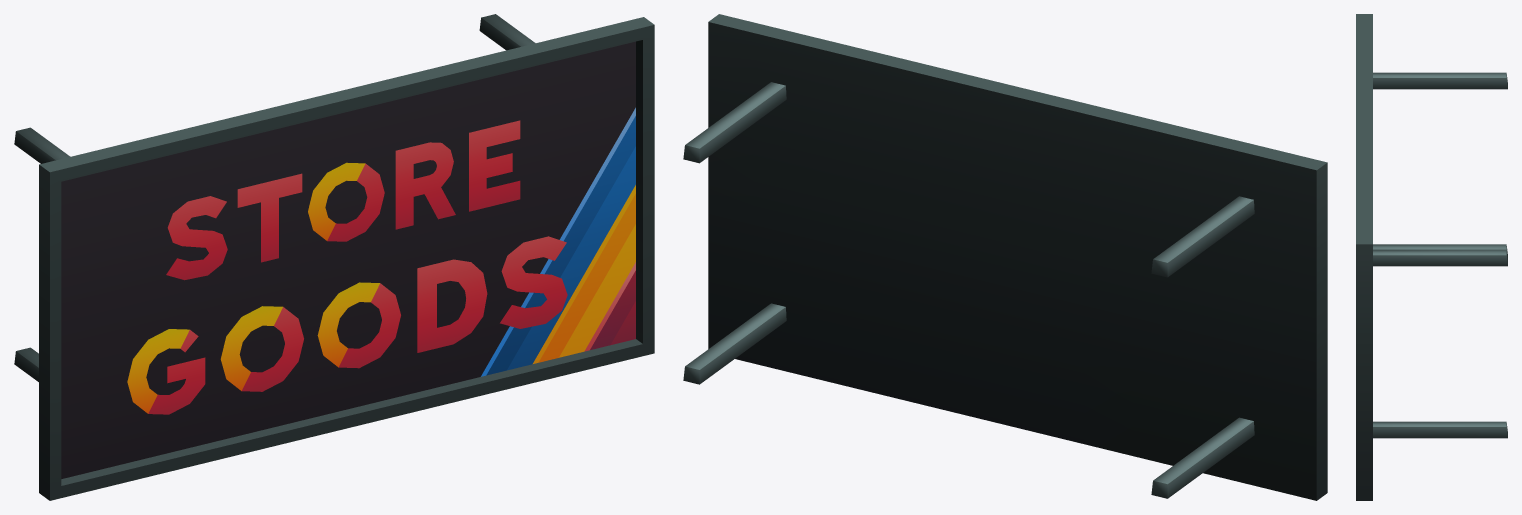
Rendered from Wall_Pannel_1B.fbx.
3 views of the same model, side by side, from view 1: azimuth 30°, elevation 25°; view 2: azimuth 150°, elevation 25°; view 3: azimuth 270°, elevation 25° (orthographic). The views are drawn at different scales.
Parts seen in each view (by area): view 1: Wall_Pannel_1B; view 2: Wall_Pannel_1B; view 3: Wall_Pannel_1B.
Boxes of the visible parts, box(x1,y1,x2,y2) form: Wall_Pannel_1B: box(14, 14, 654, 500); Wall_Pannel_1B: box(683, 14, 1327, 500); Wall_Pannel_1B: box(1356, 14, 1507, 500).
Bounding box in the file's own units: 1040 × 540 × 290.
